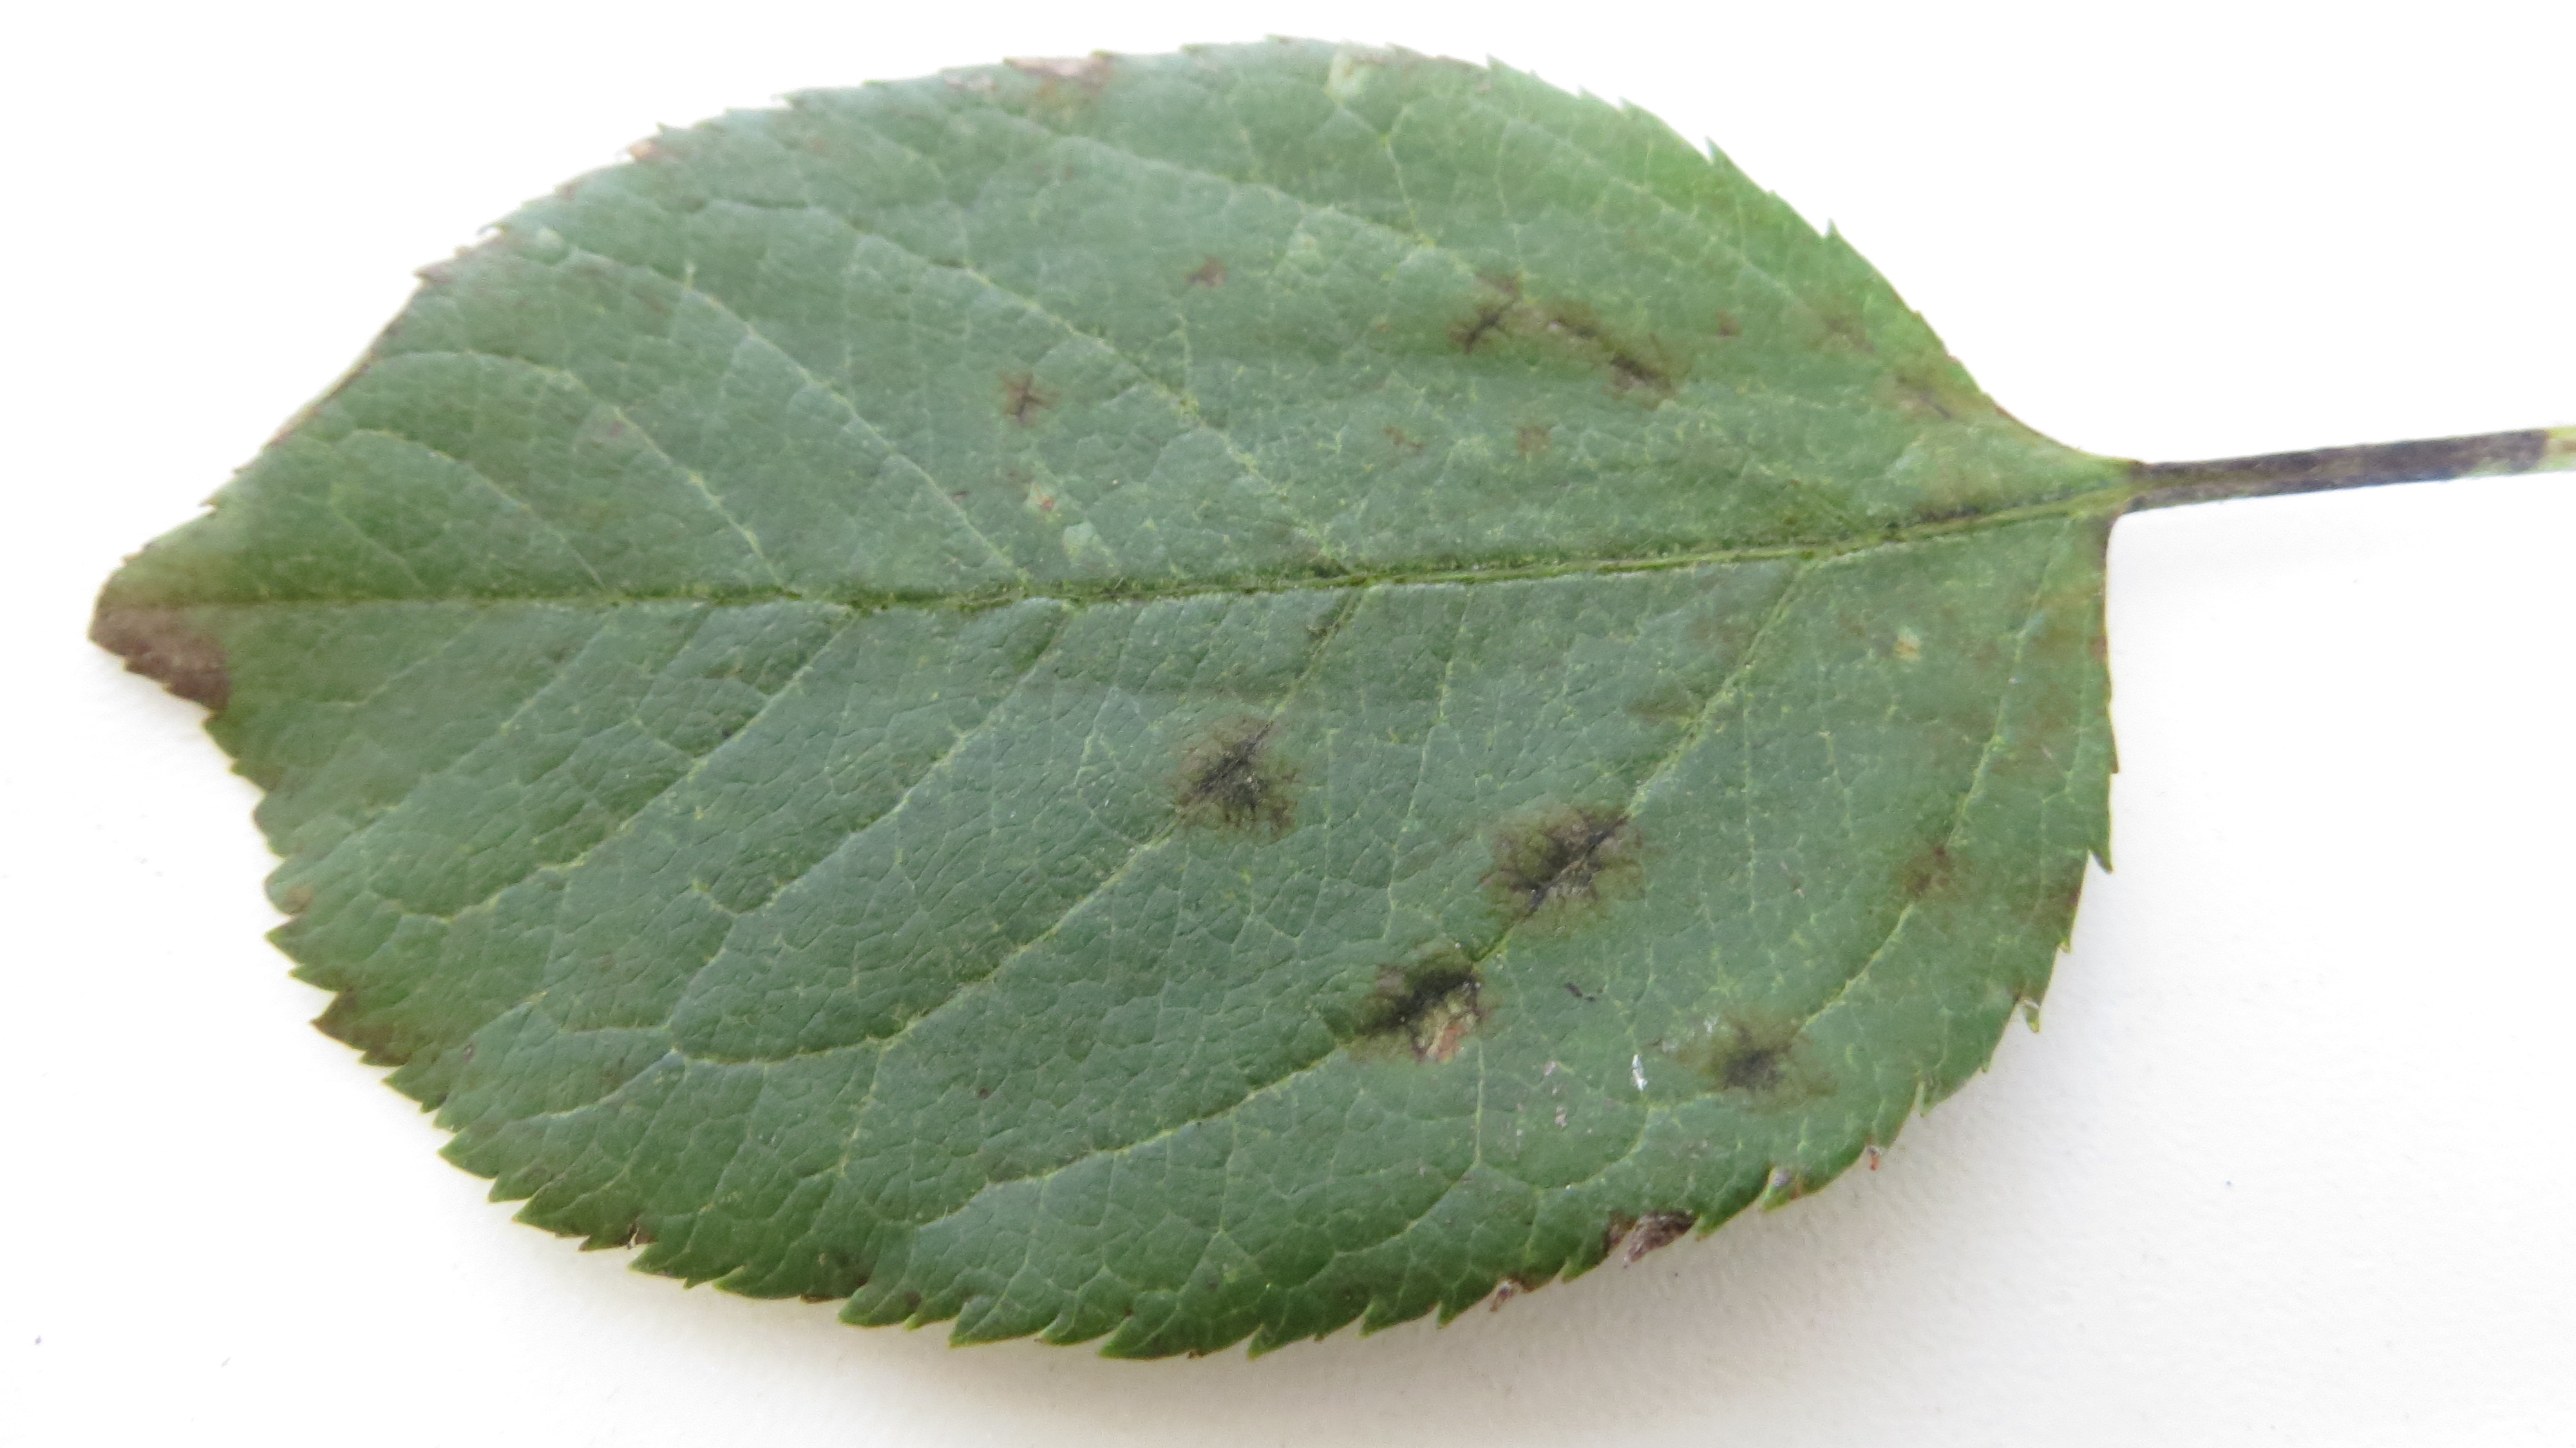sarna: (1304, 924, 1506, 1071), (1476, 793, 1651, 935), (1555, 287, 1704, 448), (88, 568, 241, 710), (1665, 984, 1813, 1115), (1171, 708, 1292, 844), (1881, 820, 1997, 920), (1440, 258, 1525, 358), (1000, 358, 1065, 437)
